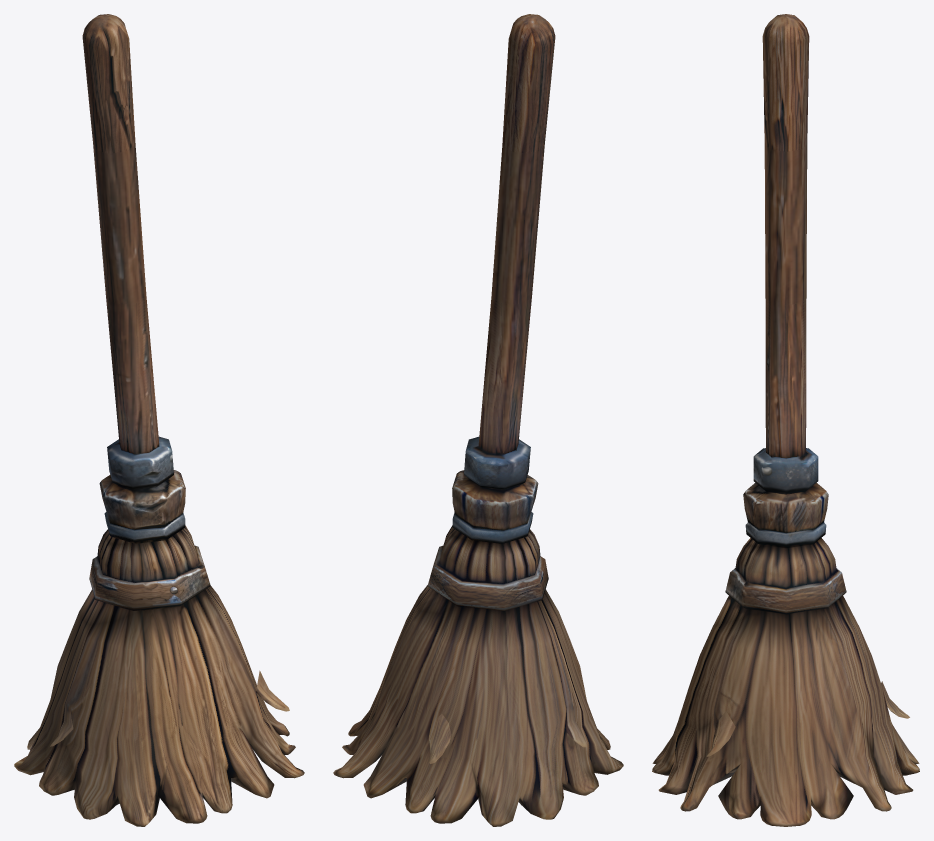
Rendered from wooden_broom_3d_model.fbx.
3 views of the same model, side by side, from view 1: azimuth 30°, elevation 25°; view 2: azimuth 150°, elevation 25°; view 3: azimuth 270°, elevation 25° (orthographic). The views are drawn at different scales.
Visible parts, largest first — view 1: tripo_node_39913be4; view 2: tripo_node_39913be4; view 3: tripo_node_39913be4.
Part boxes in pixels (x1,y1,x2,y2): tripo_node_39913be4: [14, 14, 304, 826]; tripo_node_39913be4: [333, 14, 623, 826]; tripo_node_39913be4: [652, 14, 919, 826].
Bounding box in the file's own units: 0.3296 × 0.9995 × 0.3286.
